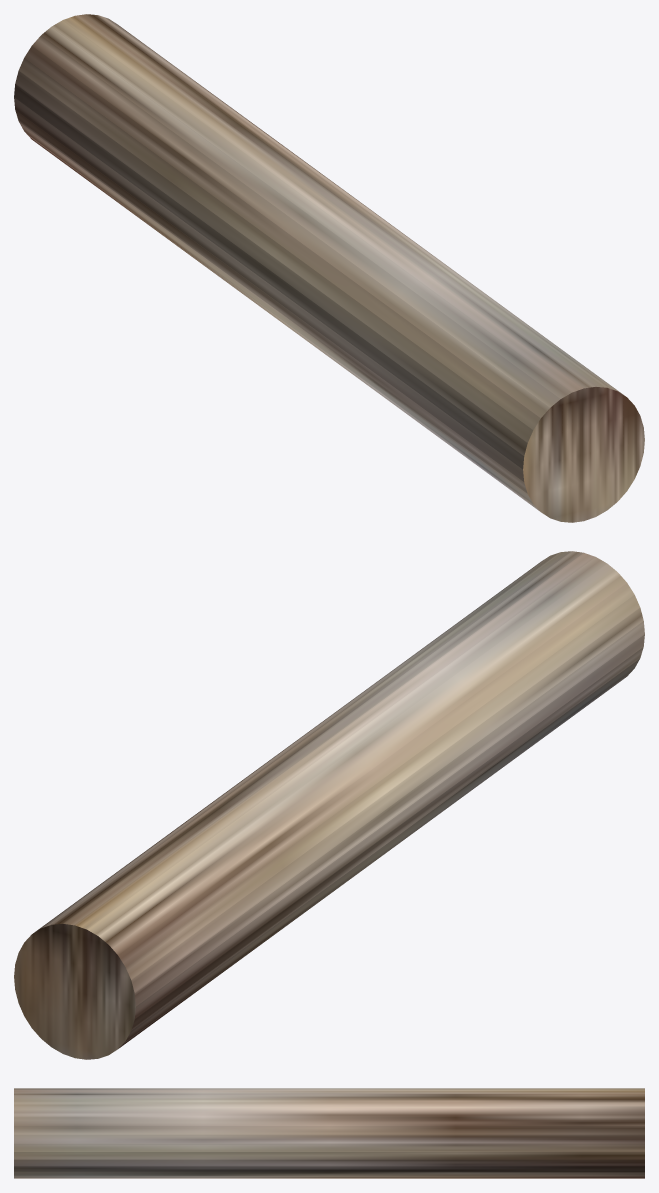
The model's file is Pipe2.fbx.
The picture shows the model from 3 angles, top to bottom: view 1: azimuth 30°, elevation 25°; view 2: azimuth 150°, elevation 25°; view 3: azimuth 270°, elevation 25°; orthographic projection. The views are drawn at different scales.
Parts seen in each view (by area): view 1: Cylinder; view 2: Cylinder; view 3: Cylinder.
Boxes of the visible parts, x1=… form: Cylinder: x1=14, y1=14, x2=644, y2=522; Cylinder: x1=14, y1=551, x2=644, y2=1059; Cylinder: x1=14, y1=1088, x2=644, y2=1178.
Bounding box in the file's own units: 27.65 × 28.78 × 200.
Materials: 1 (1 with a texture image).
